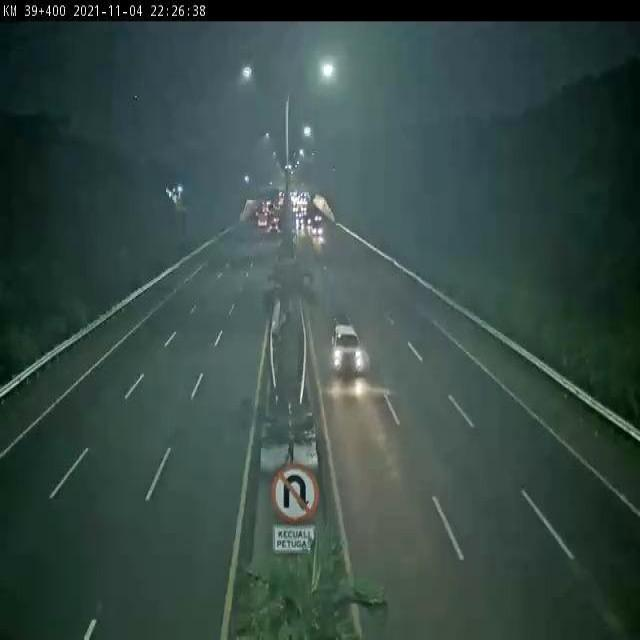car: (330, 317, 364, 384), (311, 213, 324, 244), (257, 212, 269, 235)
